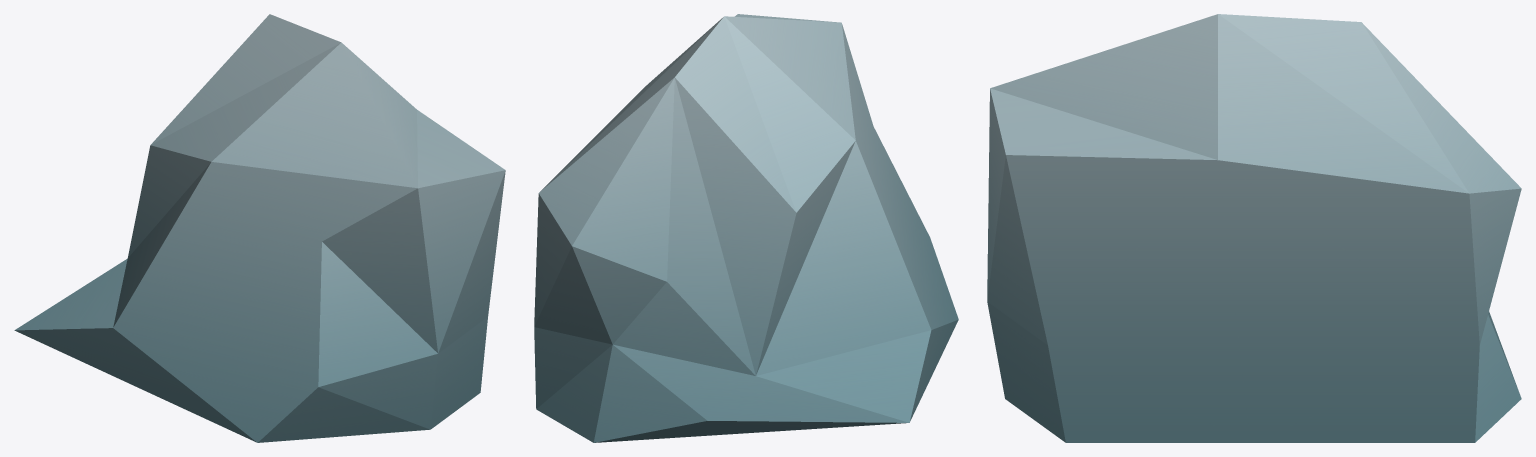
Rendered from Rock_Head.FBX.
3 renders of one model, left to right at view 1: azimuth 30°, elevation 25°; view 2: azimuth 150°, elevation 25°; view 3: azimuth 270°, elevation 25°, orthographic. The views are drawn at different scales.
Visible parts, largest first — view 1: SM_Rock_Head; view 2: SM_Rock_Head; view 3: SM_Rock_Head.
Part boxes in pixels (x1=…): SM_Rock_Head: x1=14, y1=14, x2=505, y2=442; SM_Rock_Head: x1=534, y1=14, x2=958, y2=442; SM_Rock_Head: x1=987, y1=14, x2=1521, y2=442.
Size of the model in its own units: 31.14 by 29.11 by 36.63.
